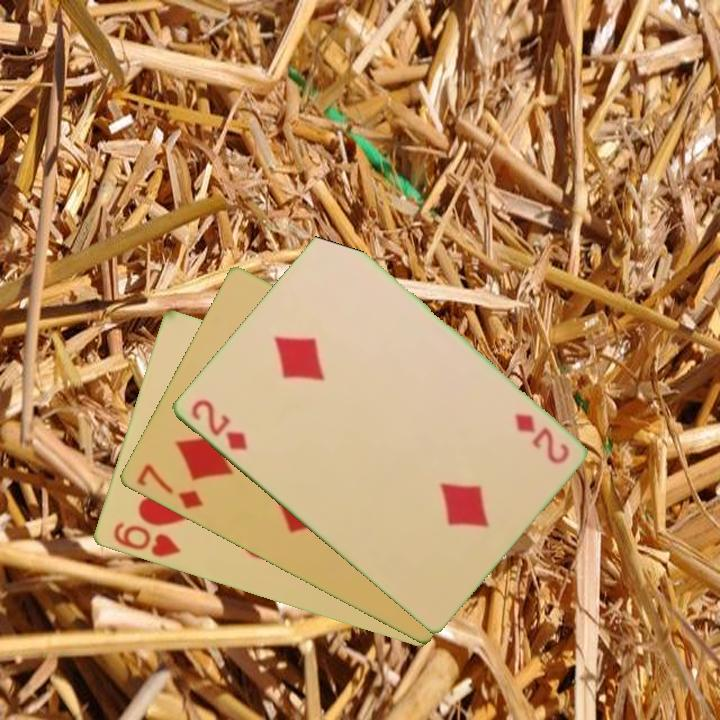2d: (186, 395, 250, 454), (511, 410, 572, 467)
6h: (109, 519, 183, 561)
7d: (132, 460, 206, 513)
